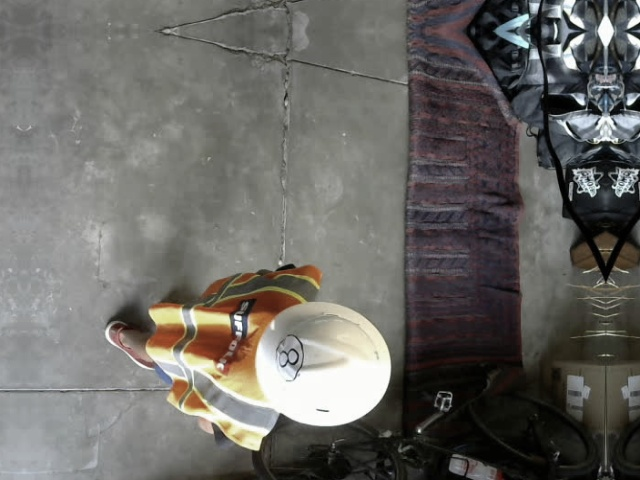eight: (274, 334, 304, 383)
